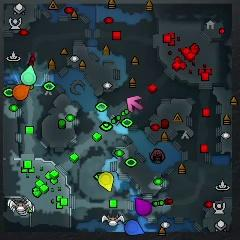p1: (125, 220, 145, 236)
p2: (21, 66, 36, 86)
p3: (135, 198, 152, 216)
p4: (98, 171, 114, 191)
p5: (13, 85, 30, 101)
x1: (126, 96, 143, 112)
